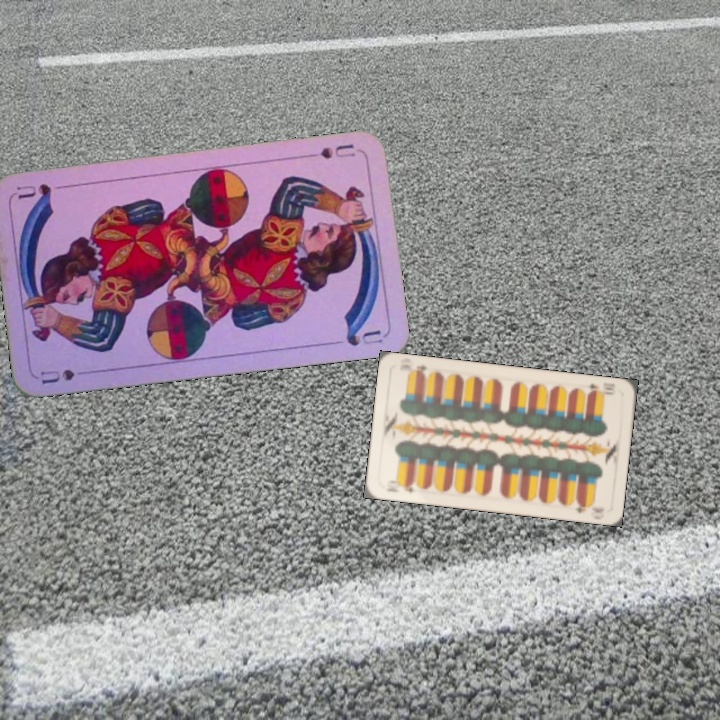E10: (583, 379, 617, 398), (392, 479, 418, 495)
SU: (36, 365, 96, 387), (302, 140, 358, 162)
